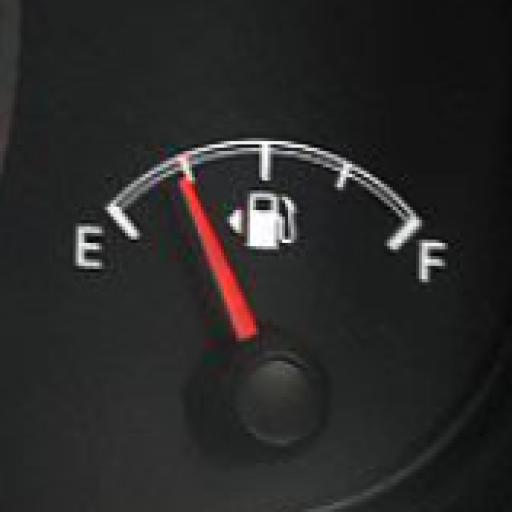empty: (71, 223, 106, 276)
fuel_icon: (244, 188, 300, 252)
full: (417, 242, 447, 287)
guage_area: (56, 126, 464, 468)
needle_center: (224, 316, 344, 448)
needle_tip: (174, 175, 208, 224)
